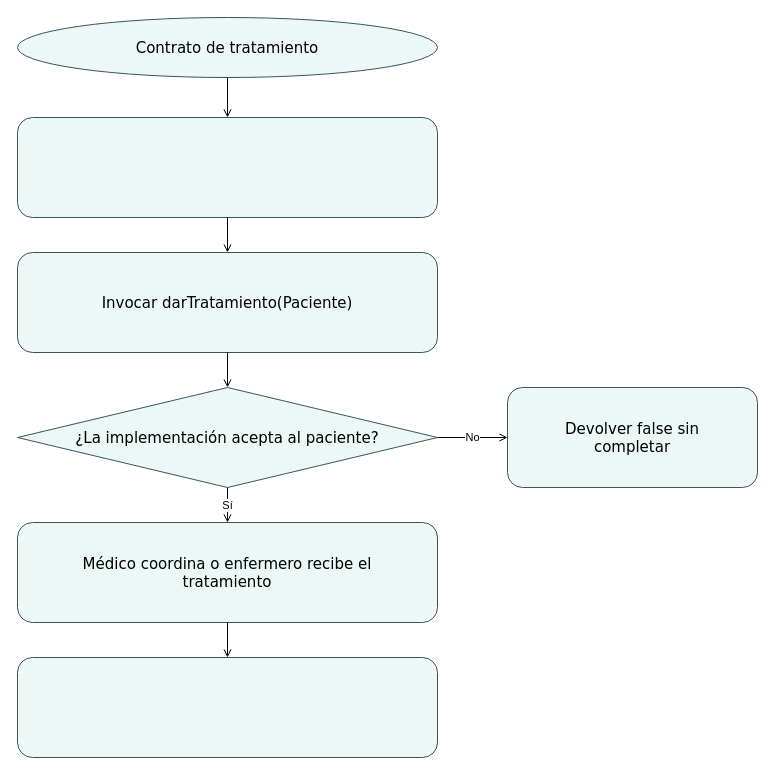
The diagram is 775 pixels wide and 775 high, and some of its shapes have lost their labels. Each missing label, with the box of its shape:
Devolver true al completar la operación: (16, 656, 438, 758)
Recibir una referencia AtencionMedica: (16, 116, 438, 218)
